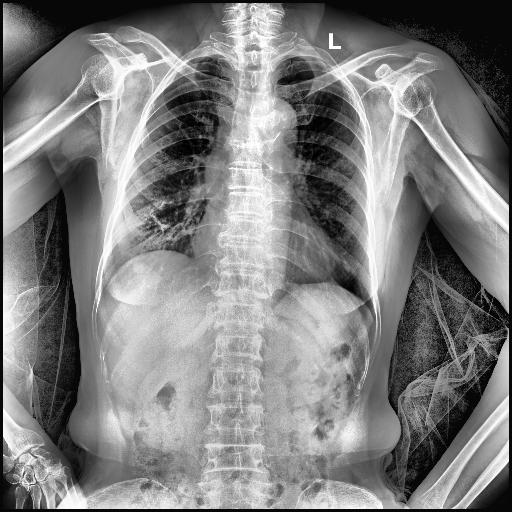0- Aortic enlargement: (255, 96, 298, 160), (254, 98, 298, 150), (262, 95, 298, 143)
11- Pleural thickening: (324, 274, 336, 286)
3- Cardiomegaly: (190, 214, 339, 280)
